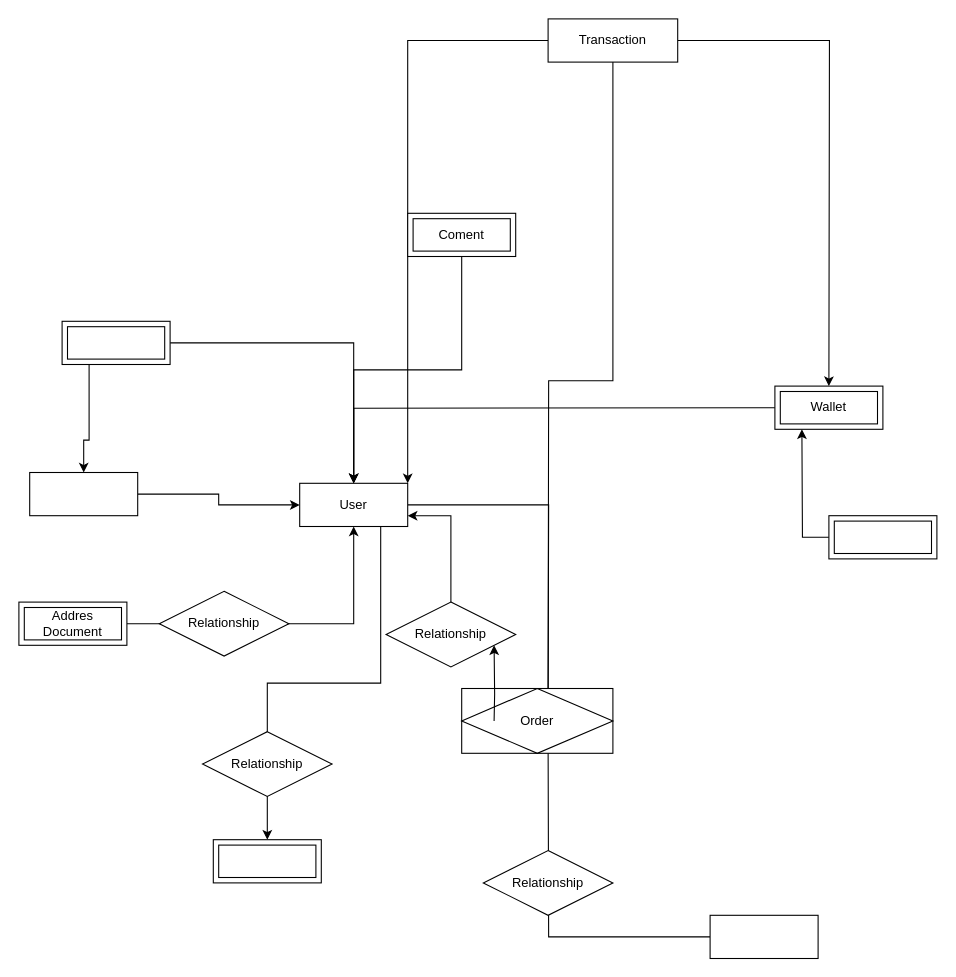
The diagram is 956 pixels wide and 977 high, and some of its shapes have lost their labels. Here are the shapes that lost their labels. From the top down, the centre of each, then its label:
the point at 115,342: API key
the point at 83,493: Person
the point at 882,537: Card
the point at 266,861: Portfolio
the point at 763,936: Active
